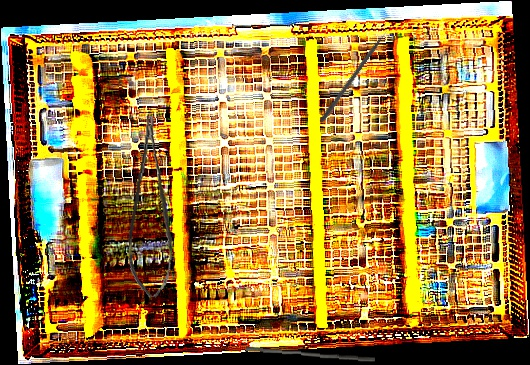Micro Scissor: (121, 114, 189, 300)
Pusher: (318, 21, 396, 125), (245, 345, 376, 363)
